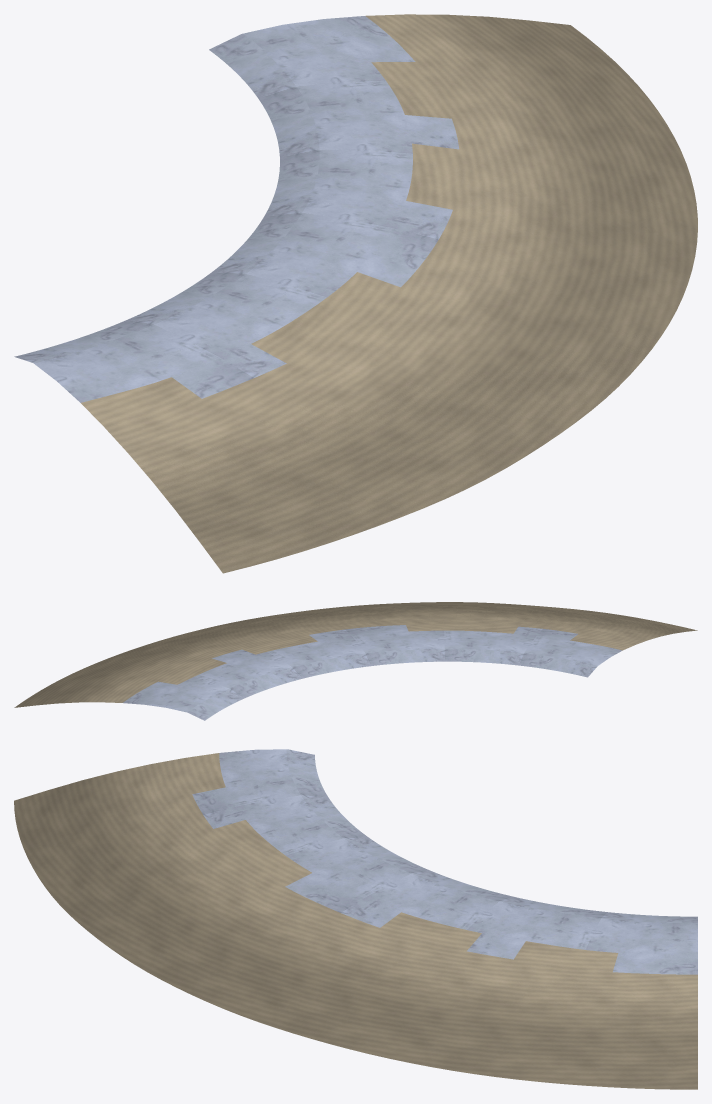
The model's file is beach_sand_outer_v5_winter.glb.
3 renders of one model, top to bottom at view 1: azimuth 30°, elevation 25°; view 2: azimuth 150°, elevation 25°; view 3: azimuth 270°, elevation 25°, orthographic. The views are drawn at different scales.
Parts seen in each view (by area): view 1: beach_sand_outer; view 2: beach_sand_outer; view 3: beach_sand_outer.
Boxes of the visible parts, x1,y1,x2,y2 form: beach_sand_outer: (14, 14, 697, 573); beach_sand_outer: (14, 602, 697, 720); beach_sand_outer: (14, 749, 697, 1089).
Size of the model in its own units: 10 by 0.8495 by 10.
2 materials, 2 textured.
